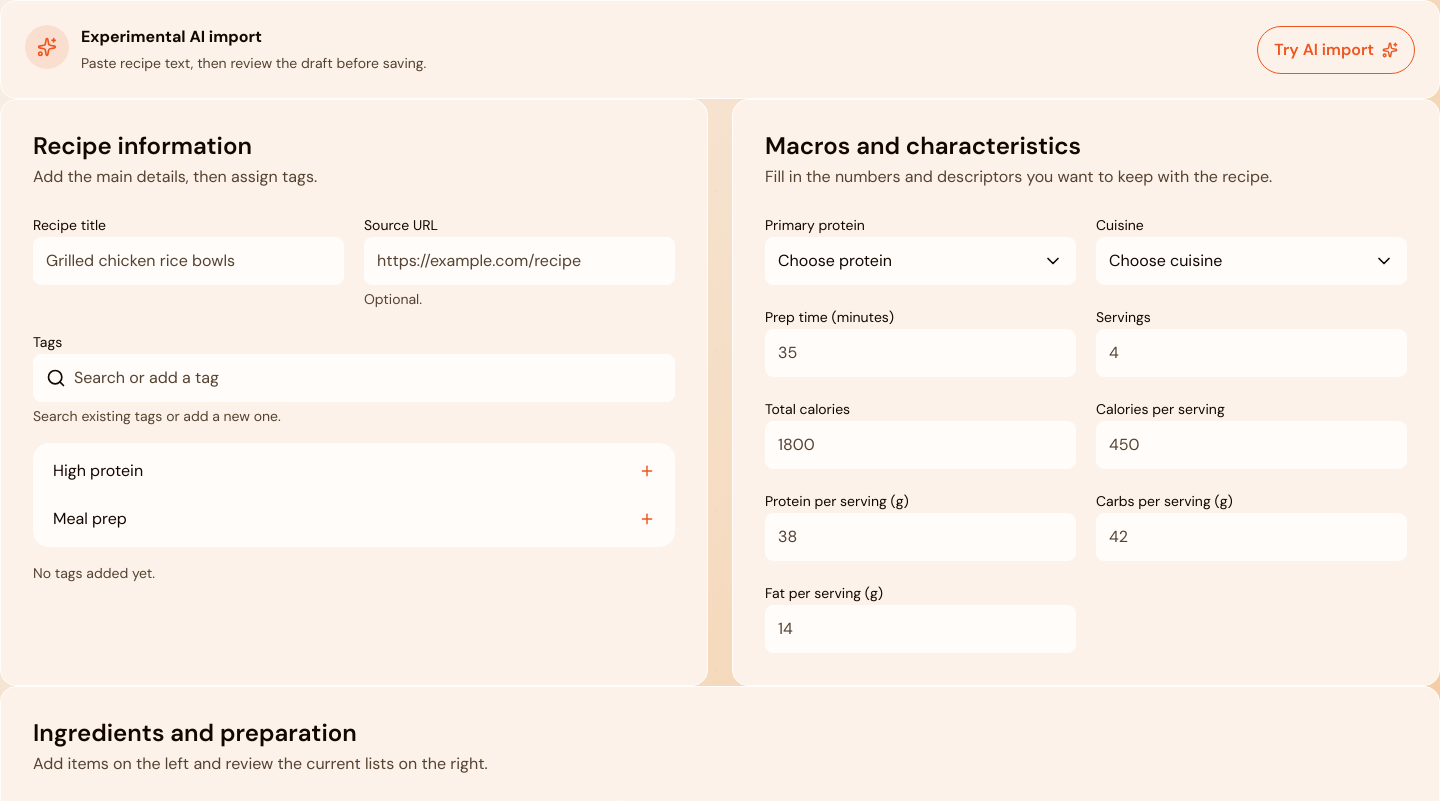
NewRecipeFormFields › shows an add action for a new tag when no suggestion matches
In the field with placeholder "Search or add a tag": (368, 378) [74,366,662,390], type "Freezer friendly"
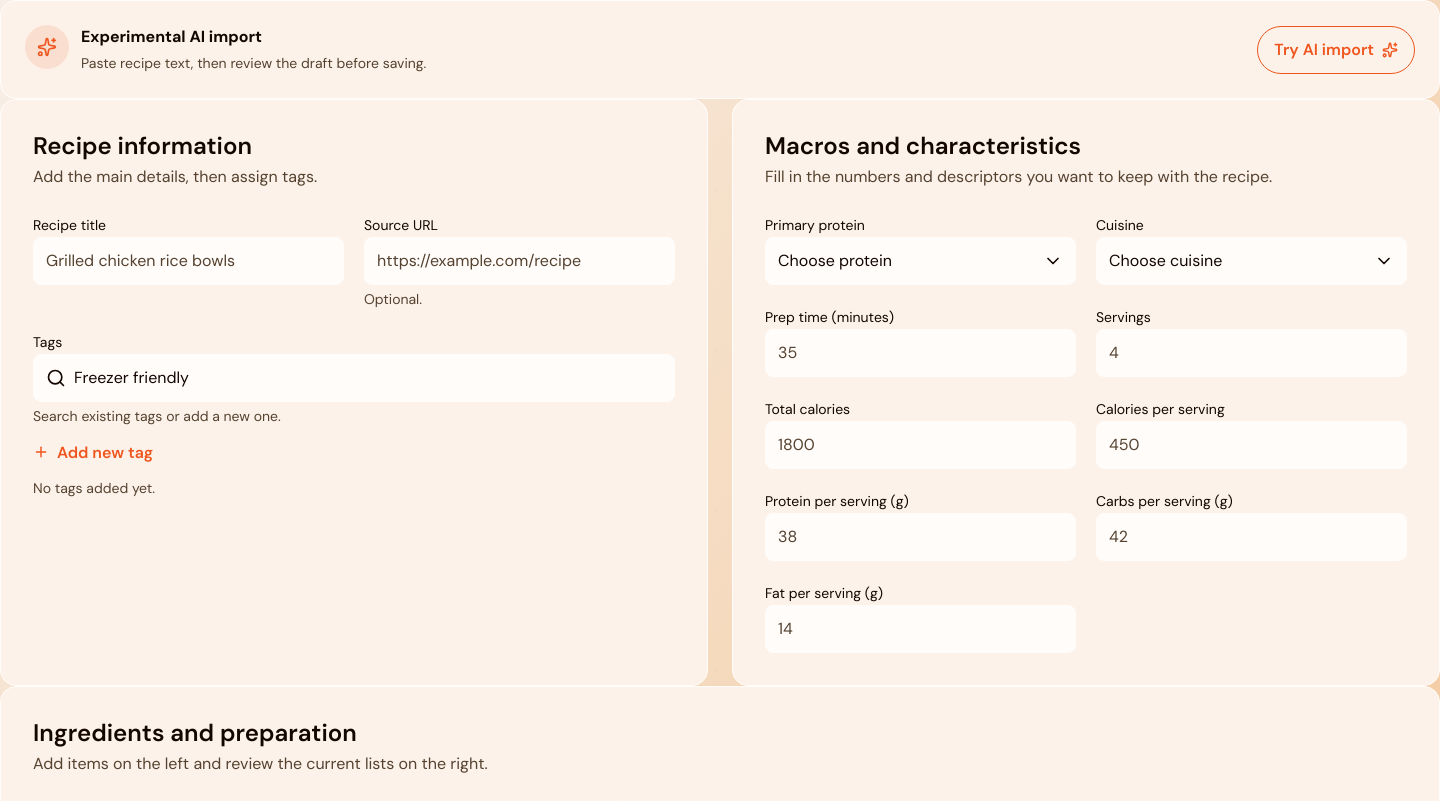
Now the button "Add new tag" is shown
Click the button "Add new tag": click(93, 452) [33,443,153,462]
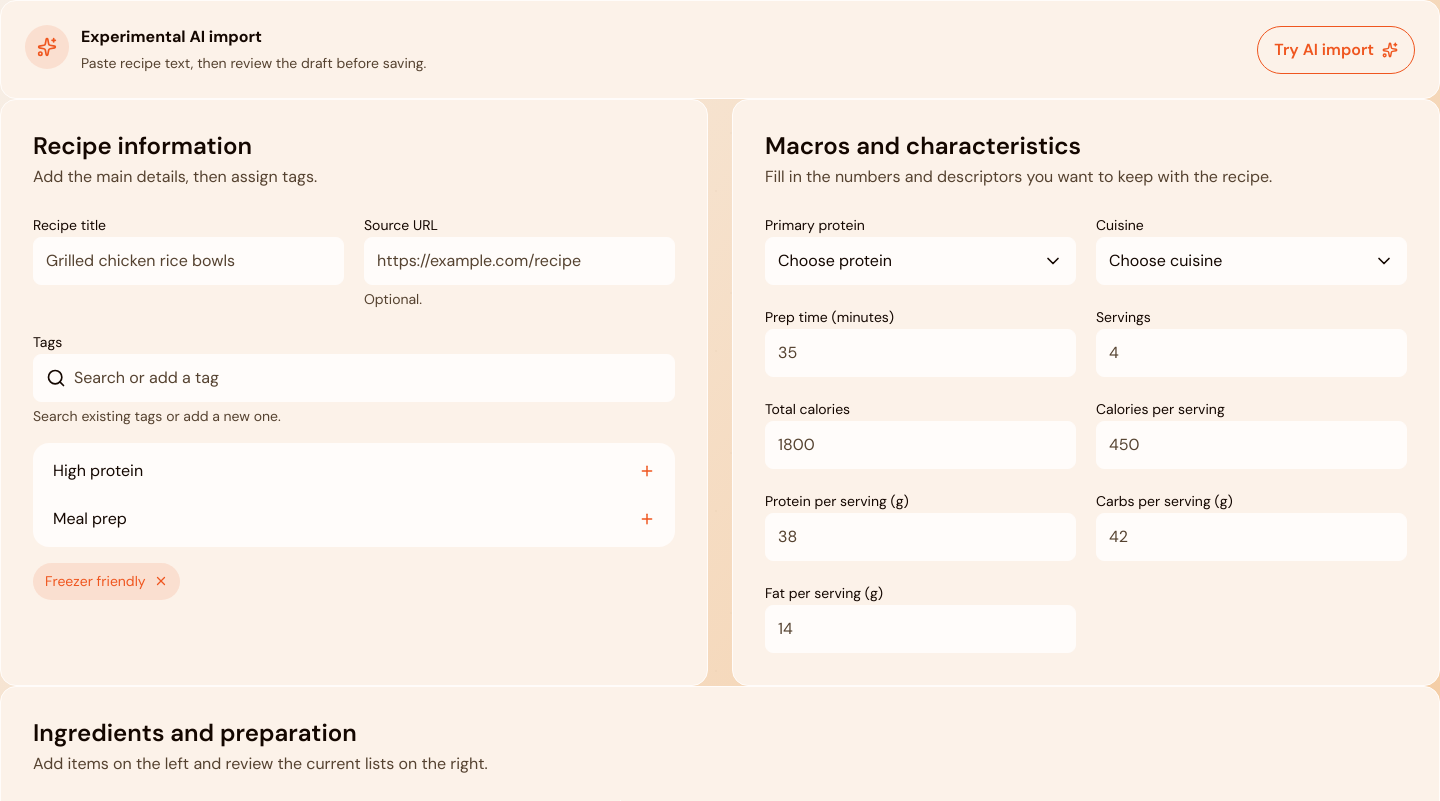
Now the button with aria-label "Remove tag Freezer friendly" is shown, box [33,563,180,600]
